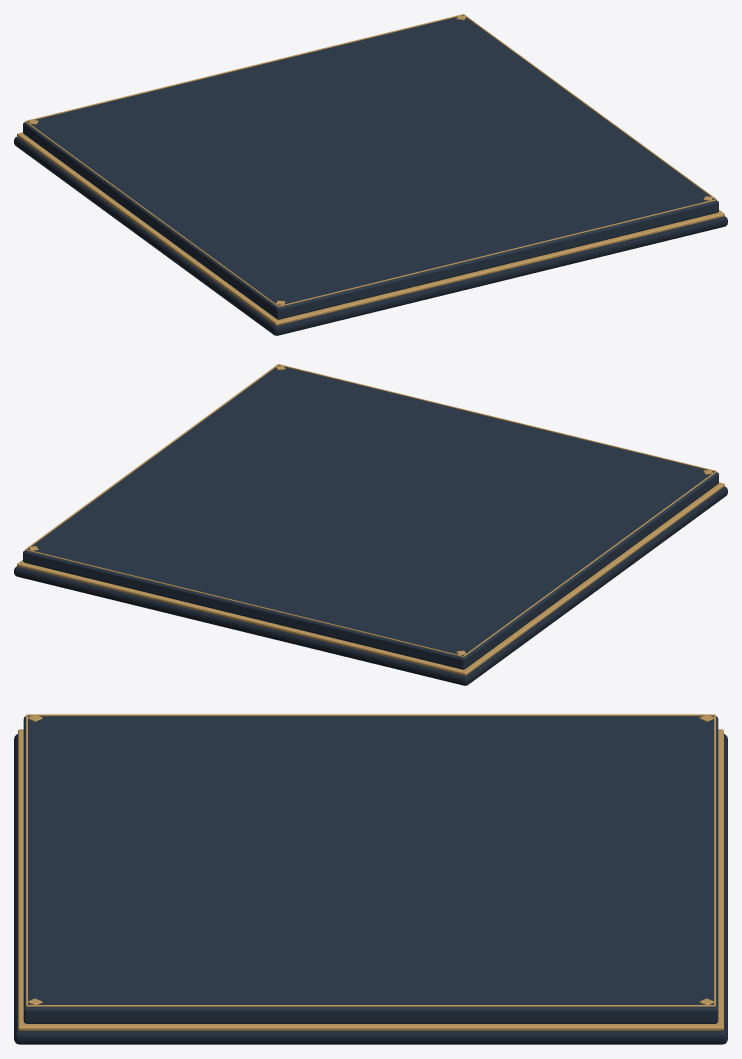
Rendered from frame.glb.
The picture shows the model from 3 angles, top to bottom: view 1: azimuth 30°, elevation 25°; view 2: azimuth 150°, elevation 25°; view 3: azimuth 270°, elevation 25°; orthographic projection. The views are drawn at different scales.
Visible parts, largest first — view 1: Playing surround, Plinth, Brass reveal, Edge inlay, Edge inlay.002, Edge inlay.001, Edge inlay.003; view 2: Playing surround, Plinth, Brass reveal, Edge inlay.002, Edge inlay, Edge inlay.001, Edge inlay.003; view 3: Playing surround, Plinth, Brass reveal, Edge inlay.001, Edge inlay.003, Edge inlay, Edge inlay.002.
Boxes of the visible parts, x1,y1,x2,y2 form: Playing surround: (23,15,718,319); Plinth: (14,136,727,335); Brass reveal: (17,132,724,325); Edge inlay: (278,199,716,307); Edge inlay.002: (25,14,463,121); Edge inlay.001: (25,121,278,306); Edge inlay.003: (463,14,716,199); Playing surround: (23,365,718,669); Plinth: (14,486,727,685); Brass reveal: (17,482,724,675); Edge inlay.002: (25,549,463,657); Edge inlay: (278,364,716,471); Edge inlay.001: (463,471,716,656); Edge inlay.003: (25,364,278,549); Playing surround: (23,716,718,1023); Plinth: (14,734,727,1044); Brass reveal: (18,729,723,1030); Edge inlay.001: (27,714,714,716); Edge inlay.003: (27,1005,714,1006); Edge inlay: (26,714,27,1006); Edge inlay.002: (714,714,715,1006).
Bounding box in the file's own units: 8.8 × 0.493 × 8.8.
